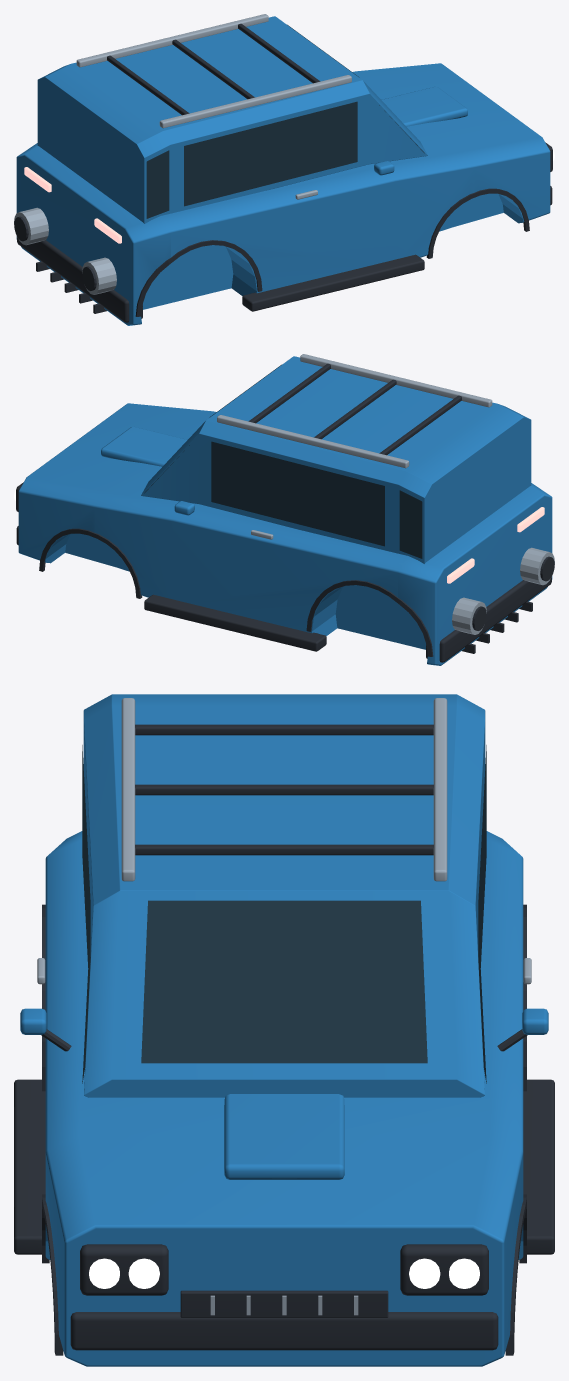
File: mammoth.glb
3 views of the same model, one above another, from view 1: azimuth 30°, elevation 25°; view 2: azimuth 150°, elevation 25°; view 3: azimuth 270°, elevation 25° (orthographic). The views are drawn at different scales.
Parts seen in each view (by area): view 1: body-paint, body-details; view 2: body-paint, body-details; view 3: body-paint, body-details.
Boxes of the visible parts, x1,y1,x2,y2 form: body-paint: [16, 16, 550, 325]; body-details: [14, 14, 554, 322]; body-paint: [18, 356, 552, 665]; body-details: [14, 354, 554, 662]; body-paint: [20, 694, 548, 1366]; body-details: [14, 698, 554, 1355].
Size of the model in its own units: 1.37 by 0.5495 by 0.7626.
